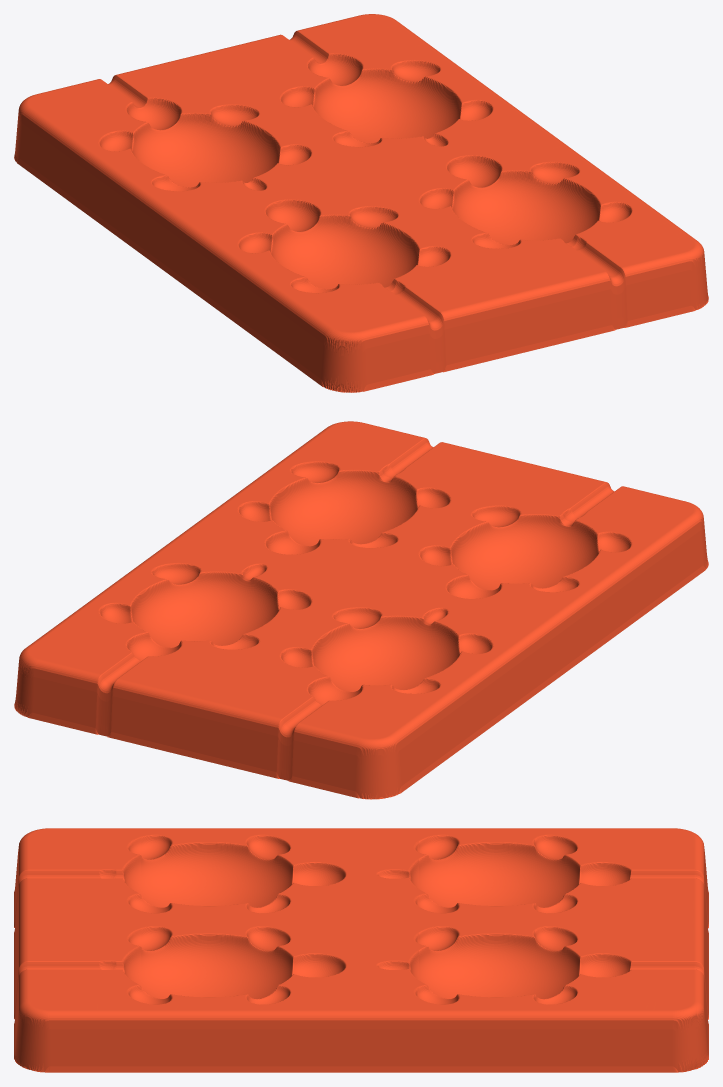
Rendered from mold.glb.
3 renders of one model, top to bottom at view 1: azimuth 30°, elevation 25°; view 2: azimuth 150°, elevation 25°; view 3: azimuth 270°, elevation 25°, orthographic. The views are drawn at different scales.
Parts seen in each view (by area): view 1: geometry_0; view 2: geometry_0; view 3: geometry_0.
Part boxes in pixels (x1=…): geometry_0: x1=14, y1=14, x2=708, y2=392; geometry_0: x1=14, y1=421, x2=708, y2=799; geometry_0: x1=14, y1=828, x2=708, y2=1072.
Size of the model in its own units: 0.1142 by 0.0155 by 0.1735.
